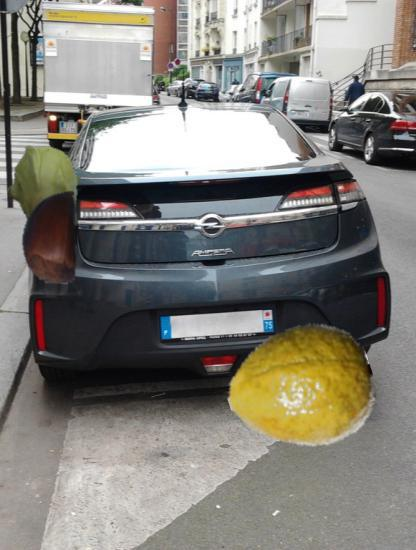Chestnut: (2, 188, 99, 285)
Guava: (228, 316, 375, 463)
Kohlrabi: (1, 143, 88, 230)
